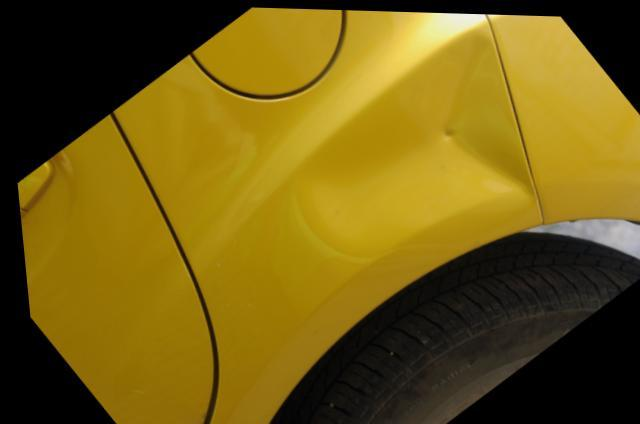dent: (294, 30, 531, 256)
